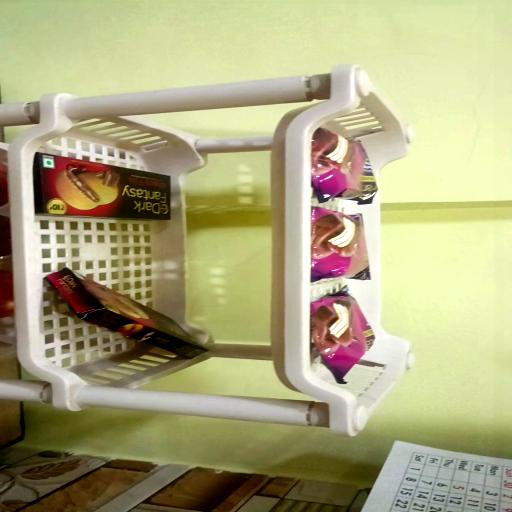Apple: (0, 272, 14, 319), (0, 218, 11, 262), (0, 158, 9, 206)
Choco Fills: (44, 269, 206, 357), (33, 156, 170, 220)
Choco Pie: (311, 292, 375, 384), (312, 131, 376, 205), (312, 210, 369, 282)
